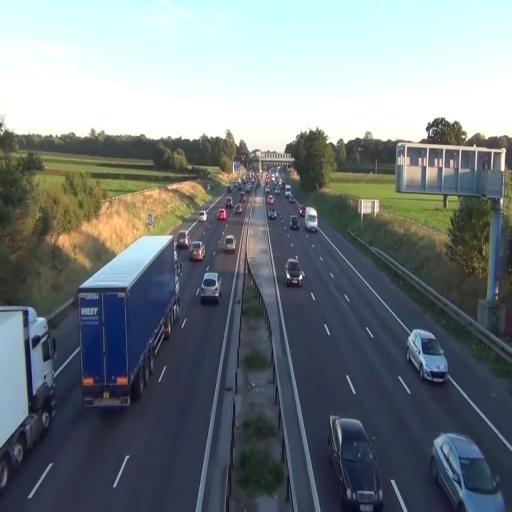vehicle: (77, 232, 177, 410), (0, 304, 57, 492), (430, 432, 506, 512), (328, 416, 384, 511), (406, 329, 448, 384), (198, 272, 221, 304), (284, 256, 304, 286), (188, 240, 206, 262), (304, 207, 318, 232), (223, 231, 237, 254), (290, 215, 300, 230)
